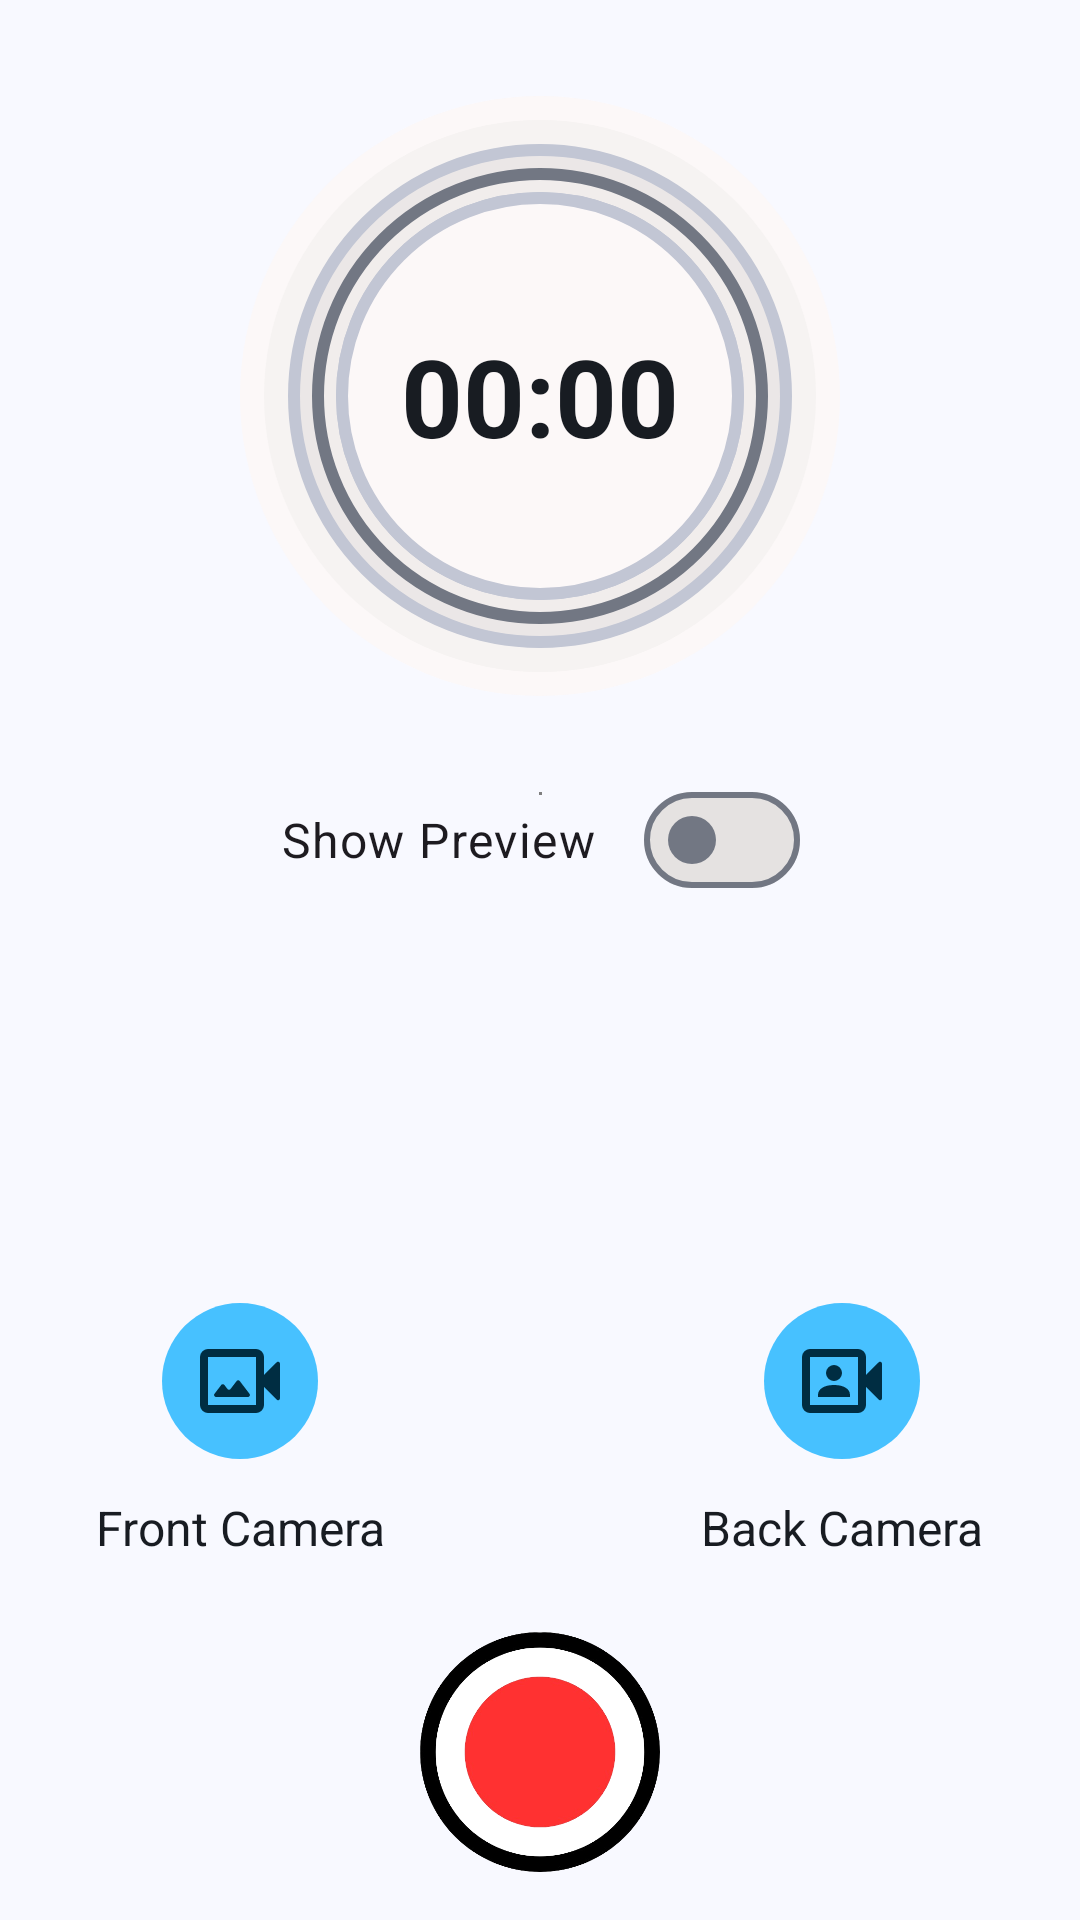

Point at icon controls on the screen. Image size 1080x1920, points as (x,y).
Switch to the rear camera: (842,1381)
Tap to start recording: (540,1752)
